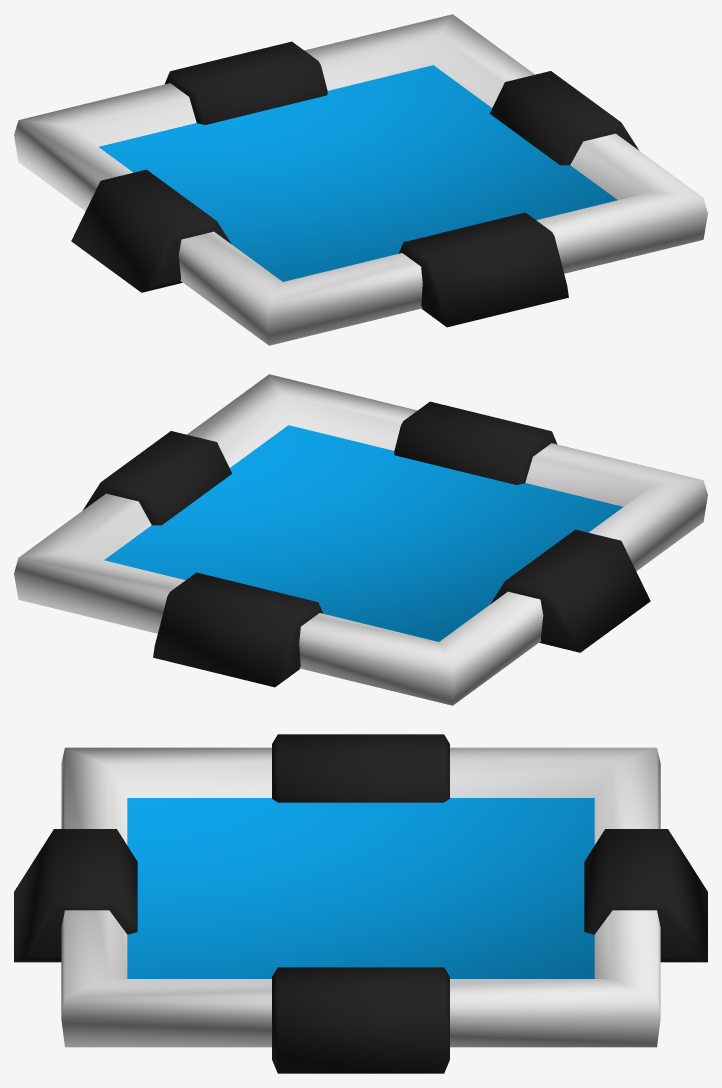
The model's file is JumpPad.fbx.
3 views of the same model, one above another, from view 1: azimuth 30°, elevation 25°; view 2: azimuth 150°, elevation 25°; view 3: azimuth 270°, elevation 25° (orthographic). The views are drawn at different scales.
Parts seen in each view (by area): view 1: Cube; view 2: Cube; view 3: Cube.
Part boxes in pixels (<box>): Cube: <box>14,14,707,345</box>; Cube: <box>14,374,707,705</box>; Cube: <box>14,734,707,1073</box>.
Size of the model in its own units: 234 by 23.48 by 234.
